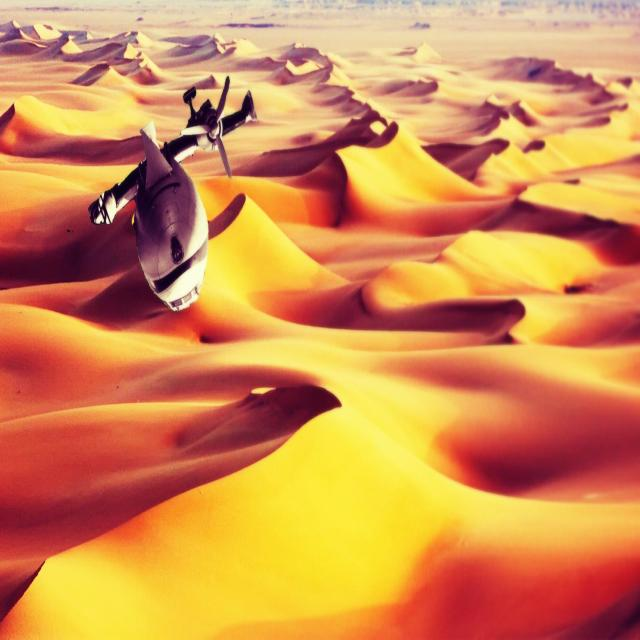airplane: (86, 74, 258, 314)
